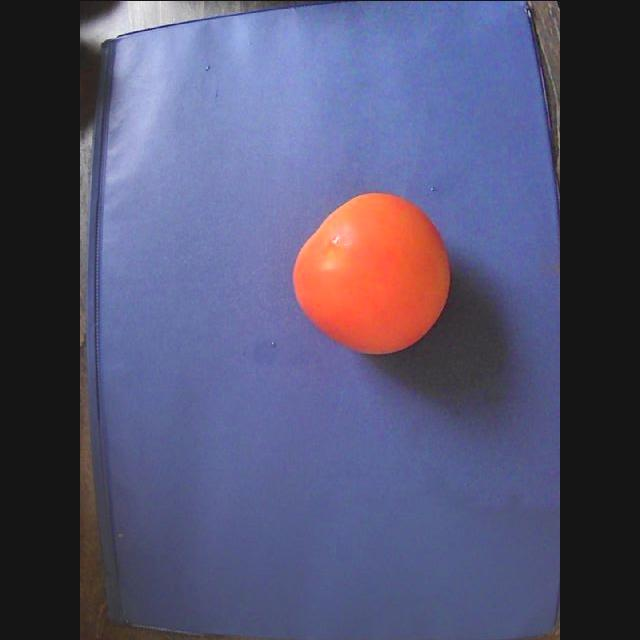tomate: (293, 193, 449, 353)
